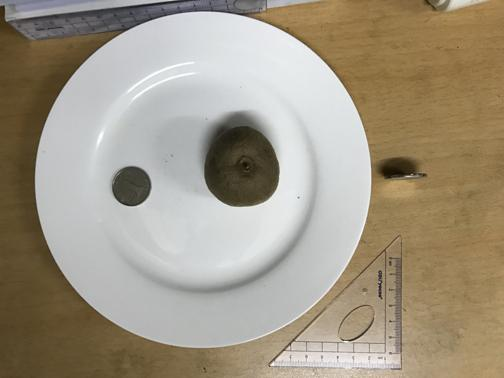coin: (110, 168, 151, 206)
qiwi: (202, 125, 280, 206)
